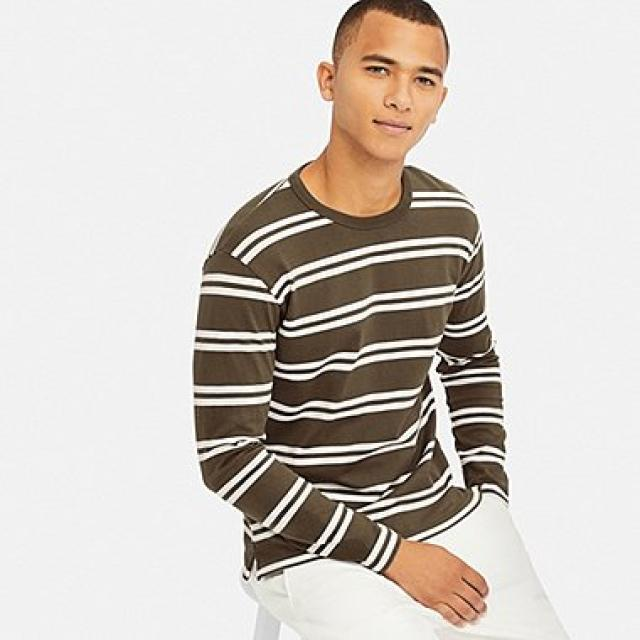mobile_phonerotation: (190, 0, 574, 638)
